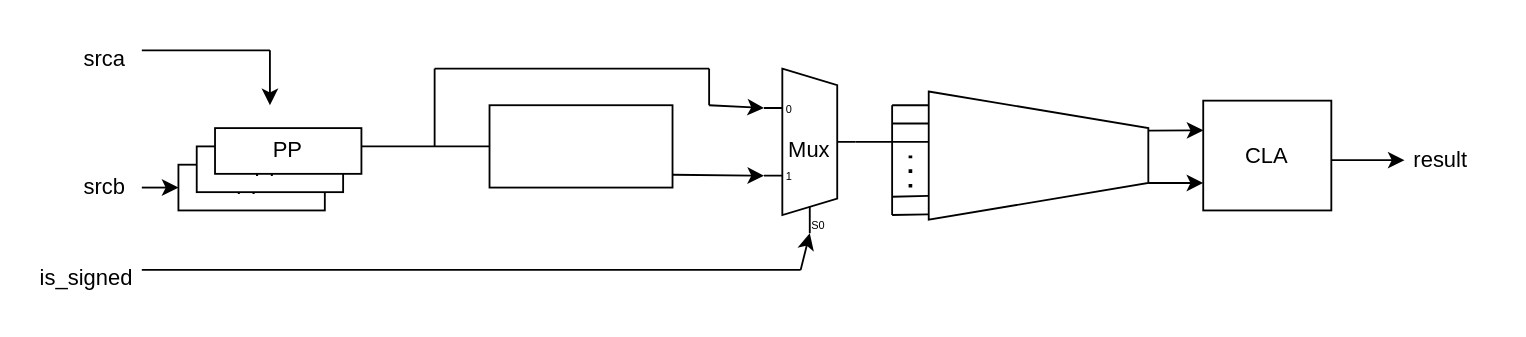
The diagram is 1526 pixels wide and 337 high, and some of its shapes have lost their labels. Here are the shapes that lost their labels. From the top down, the box of each, then its label:
(488, 103, 673, 188): Baugh-Wooley
(927, 90, 1148, 220): Wallace tree
